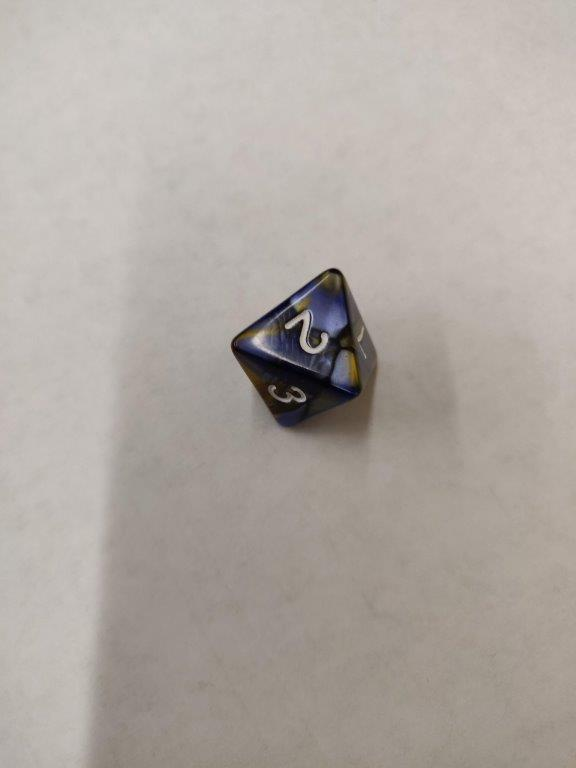d8-2: (230, 268, 377, 425)
